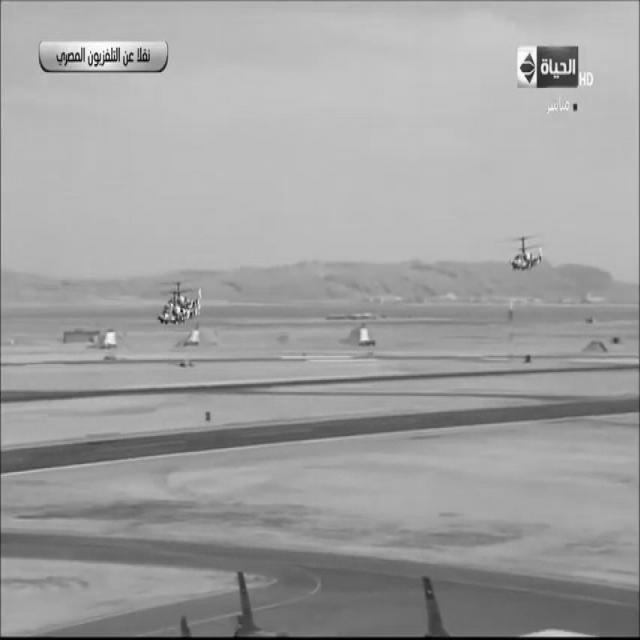helikopter: (148, 256, 216, 336), (492, 216, 558, 286)
